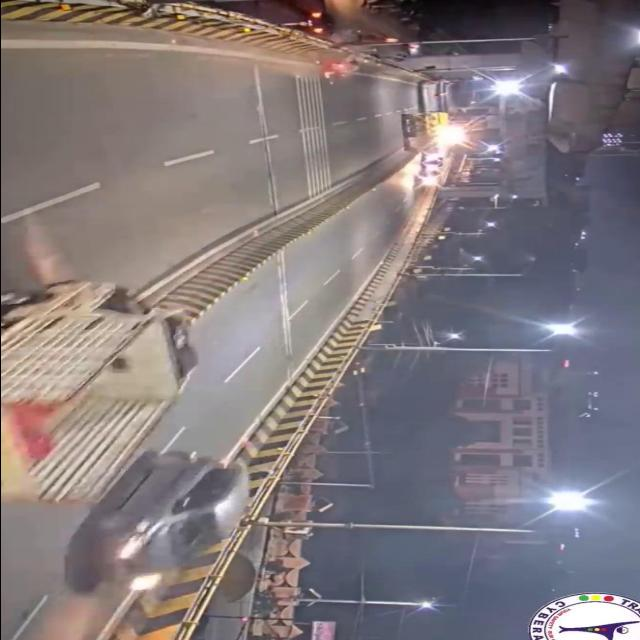accident: (308, 50, 384, 88)
